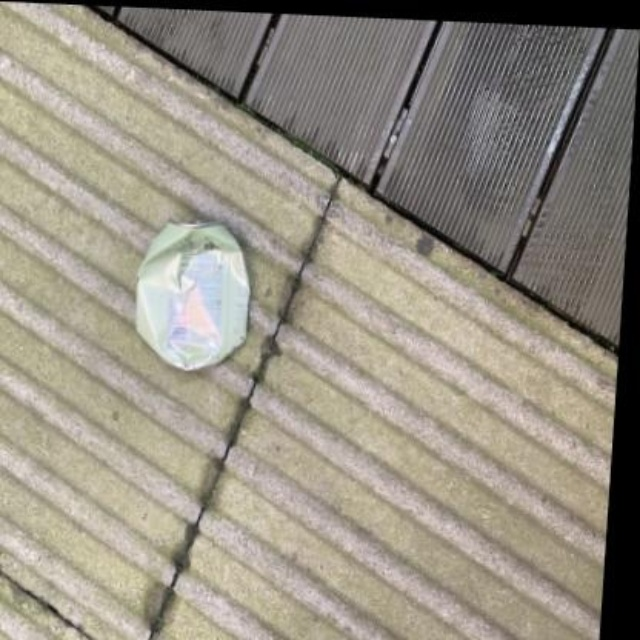trash: (137, 223, 248, 369)
